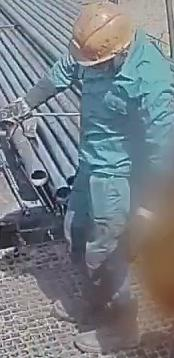gloves: (114, 205, 160, 261), (0, 94, 35, 140)
helmet: (68, 1, 134, 66)
vest: (59, 29, 174, 183)
